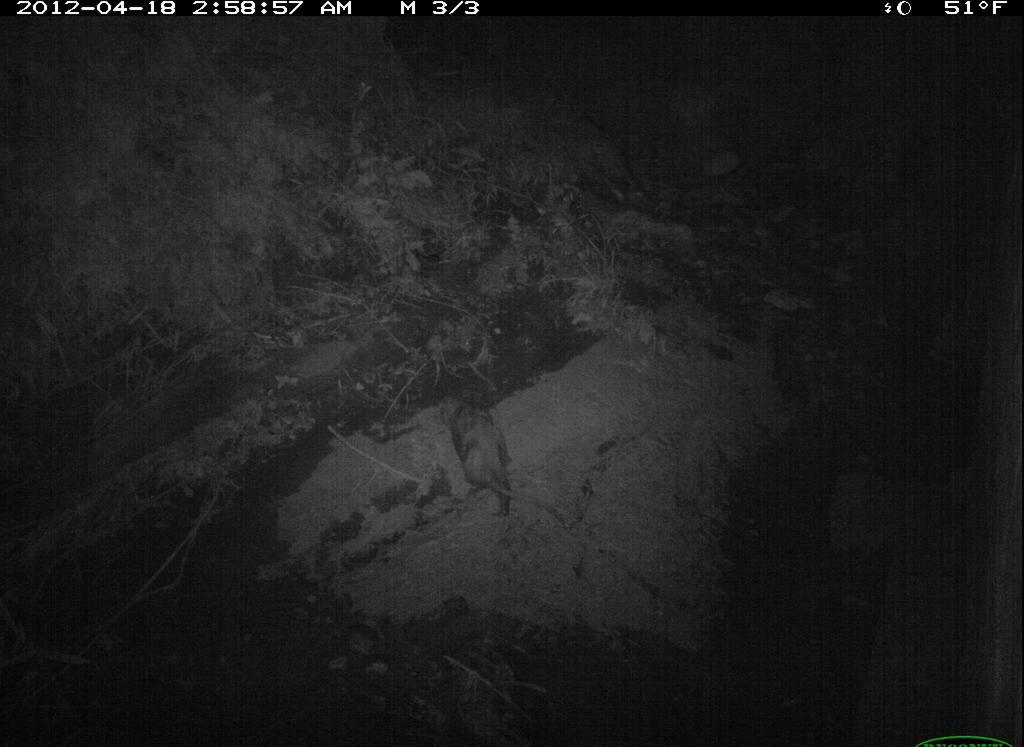opossum: (429, 385, 578, 539)
